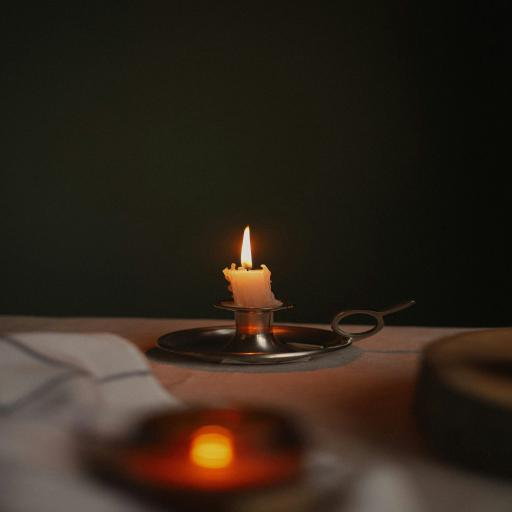candlelight: (220, 226, 278, 310)
